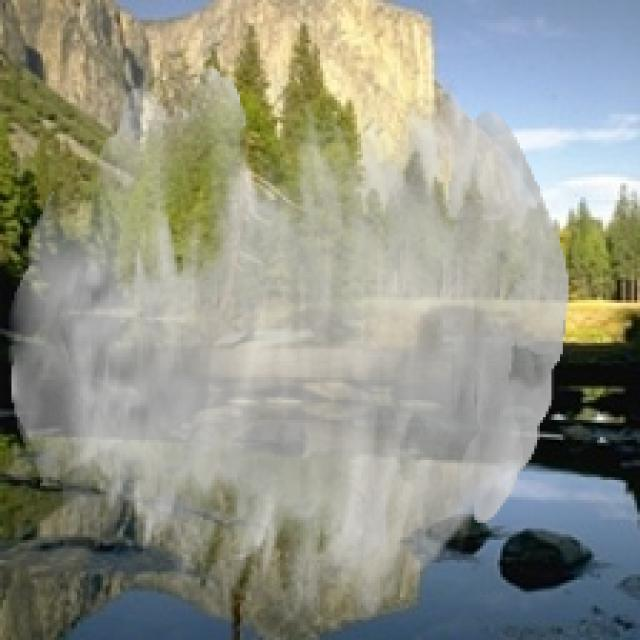smoke: (9, 65, 568, 626)
